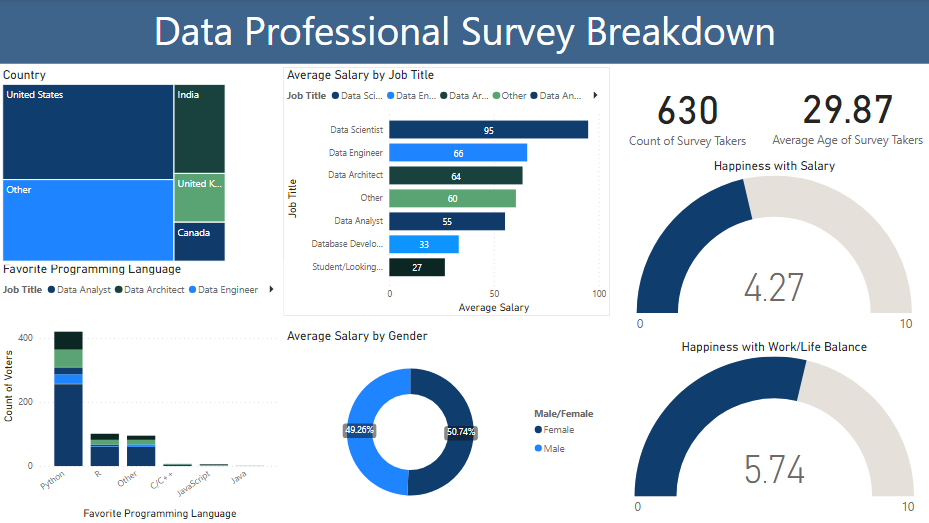

This screenshot's page, from the dashboard's own definition file:
{"tool":"powerbi","page":{"name":"Page 1","canvas":[1280,720],"ordinal":0},"visuals":[{"type":"textbox","box":[0,0,1280,88.9],"z":0},{"type":"card","fields":{"Values":["Avg(Data Professional Survey.Q10 - Current Age)"]},"box":[1052.6,88.9,227.4,129.7],"z":1000},{"type":"card","fields":{"Values":["CountNonNull(Data Professional Survey.Unique ID)"]},"box":[839.7,93.3,212.8,125.4],"z":2000},{"type":"barChart","title":"Average Salary by Job Title","fields":{"Category":["Data Professional Survey.Q1 - Which Title Best Fits your Current Role?.1"],"Y":["Avg(Data Professional Survey.Average Salary)"],"Series":["Data Professional Survey.Q1 - Which Title Best Fits your Current Role?.1"]},"box":[390.7,93.3,449,342.6],"z":3000},{"type":"columnChart","title":"Favorite Programming Language","fields":{"Category":["Data Professional Survey.Q5 - Favorite Programming Language.1"],"Y":["CountNonNull(Data Professional Survey.Unique ID)"],"Series":["Data Professional Survey.Q1 - Which Title Best Fits your Current Role?.1"]},"box":[0,360.1,390.7,360.1],"z":4000},{"type":"treemap","title":"Country","fields":{"Group":["Data Professional Survey.Q11 - Which Country do you live in?.1"],"Values":["CountNonNull(Data Professional Survey.Q11 - Which Country do you live in?.1)"]},"box":[0,93.5,316.2,272.2],"z":5000},{"type":"gauge","title":"Happiness with Work/Life Balance","fields":{"Y":["Avg(Data Professional Survey.Q6 - How Happy are you in your Current Position with the following? (Work/Life Balance))"],"MinValue":["Min(Data Professional Survey.Q6 - How Happy are you in your Current Position with the following? (Work/Life Balance))"],"MaxValue":["Max(Data Professional Survey.Q6 - How Happy are you in your Current Position with the following? (Work/Life Balance))"]},"box":[852.8,468,427.2,252.2],"z":6000},{"type":"gauge","title":"Happiness with Salary","fields":{"Y":["Avg(Data Professional Survey.Q6 - How Happy are you in your Current Position with the following? (Salary))"],"MinValue":["Min(Data Professional Survey.Q6 - How Happy are you in your Current Position with the following? (Salary))"],"MaxValue":["Max(Data Professional Survey.Q6 - How Happy are you in your Current Position with the following? (Salary))"]},"box":[852.8,218.7,427.2,249.3],"z":7000},{"type":"donutChart","title":"Average Salary by Gender","fields":{"Category":["Data Professional Survey.Q9 - Male/Female?"],"Y":["Avg(Data Professional Survey.Average Salary)"]},"box":[391,453,449,267],"z":8000}]}

Visuals, with their boxes in screenshot pixels (x1, y1, x2, y2), scaled from the page's 1280x720 canvas onto the 929x523 screenshot:
textbox: [left=0, top=0, right=928, bottom=65]
card - Avg(Data Professional Survey.Q10 - Current Age): [left=764, top=65, right=928, bottom=159]
card - CountNonNull(Data Professional Survey.Unique ID): [left=609, top=68, right=764, bottom=159]
"Average Salary by Job Title" barChart: [left=284, top=68, right=609, bottom=317]
"Favorite Programming Language" columnChart: [left=0, top=262, right=284, bottom=522]
"Country" treemap: [left=0, top=68, right=229, bottom=266]
"Happiness with Work/Life Balance" gauge: [left=619, top=340, right=928, bottom=522]
"Happiness with Salary" gauge: [left=619, top=159, right=928, bottom=340]
"Average Salary by Gender" donutChart: [left=284, top=329, right=610, bottom=522]
